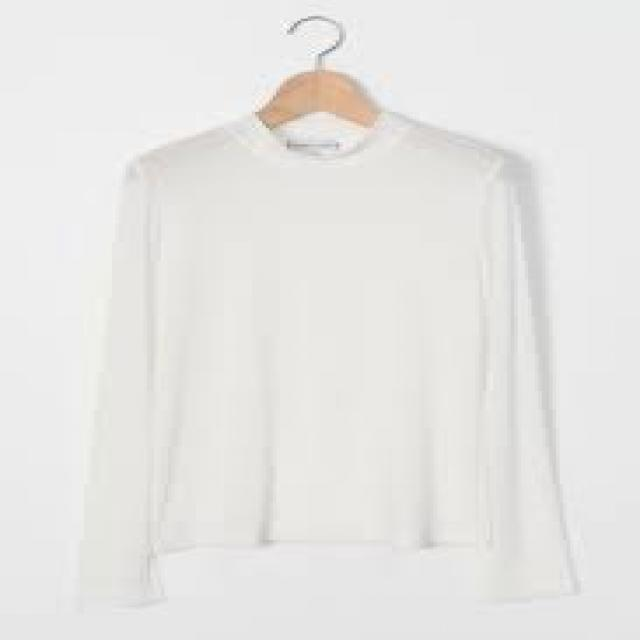plain: (85, 112, 580, 603)
